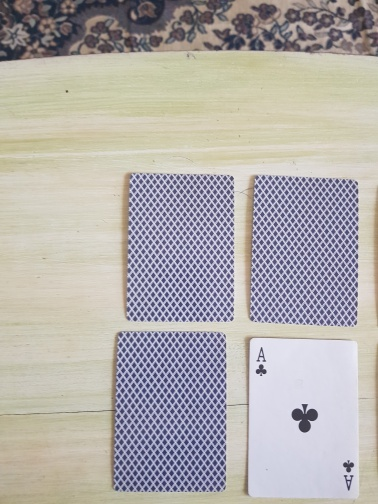ace: (245, 336, 362, 500)
